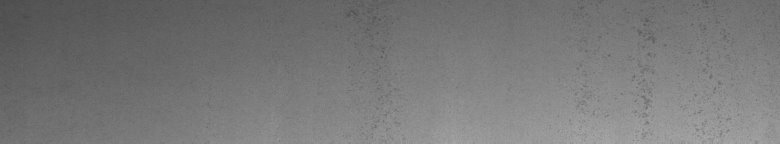ib: (636, 18, 720, 116)
